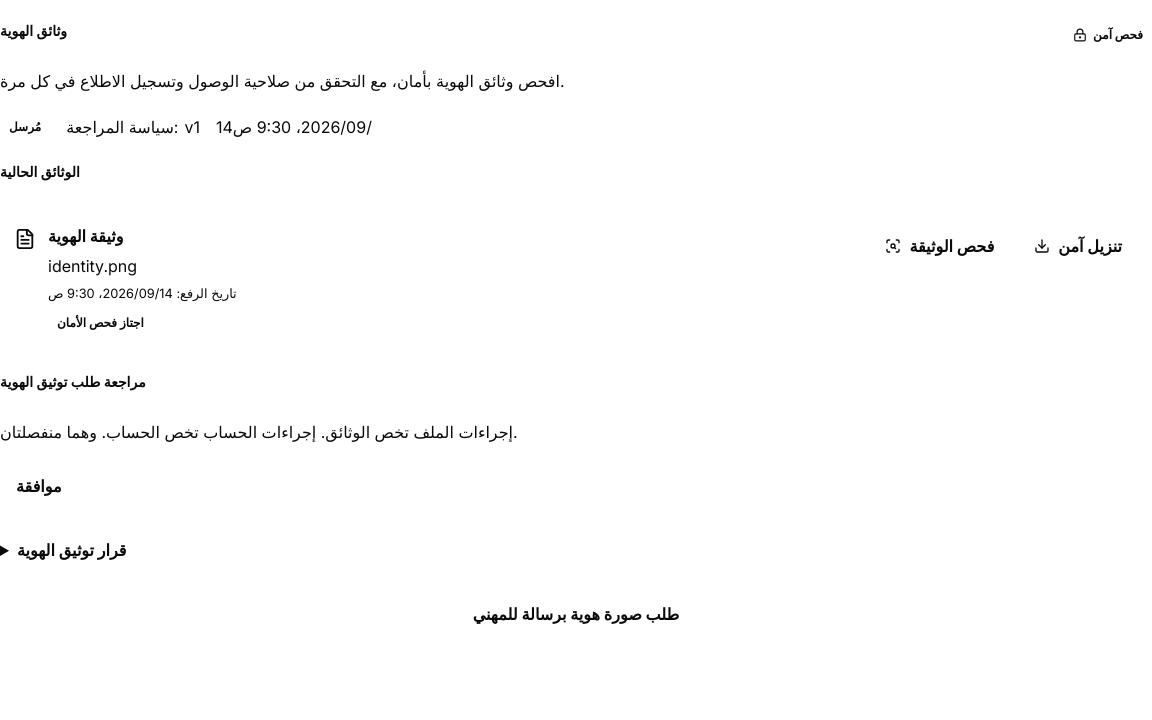
Test: restricted identity preview › explains ar identity conflict EVIDENCE_PREFLIGHT_STALE while preserving the case note
Step 1. Click the button with test id "review-case-approve" → (39, 486), box [0,464,78,508]
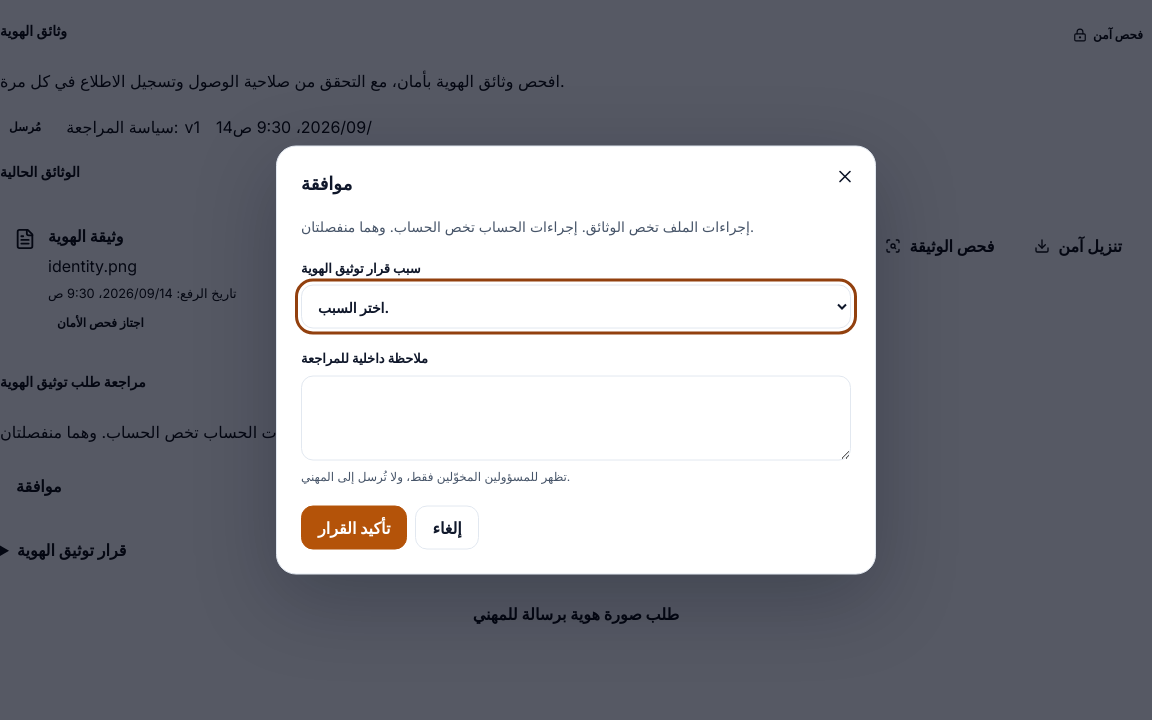
Step 2. Select "الوثائق كاملة وواضحة" in the dropdown → (576, 307), box [301,285,851,329]
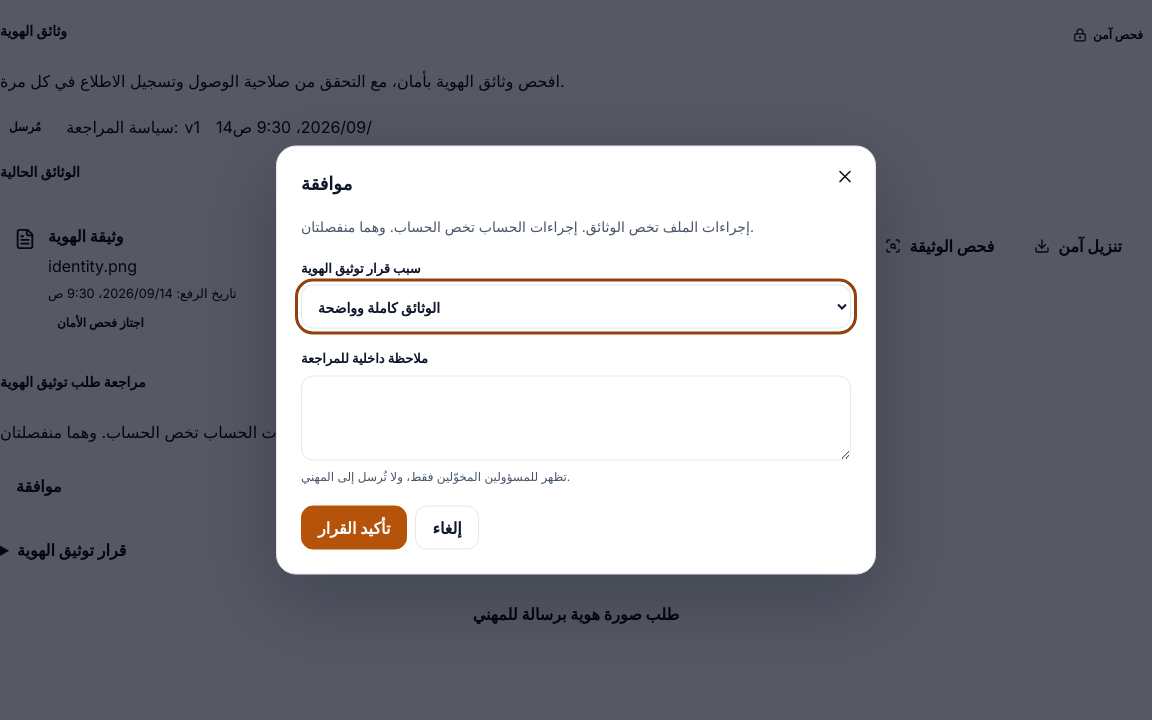
Step 3. Type "Preserved case note" into the text box → (576, 418), box [301,375,851,460]
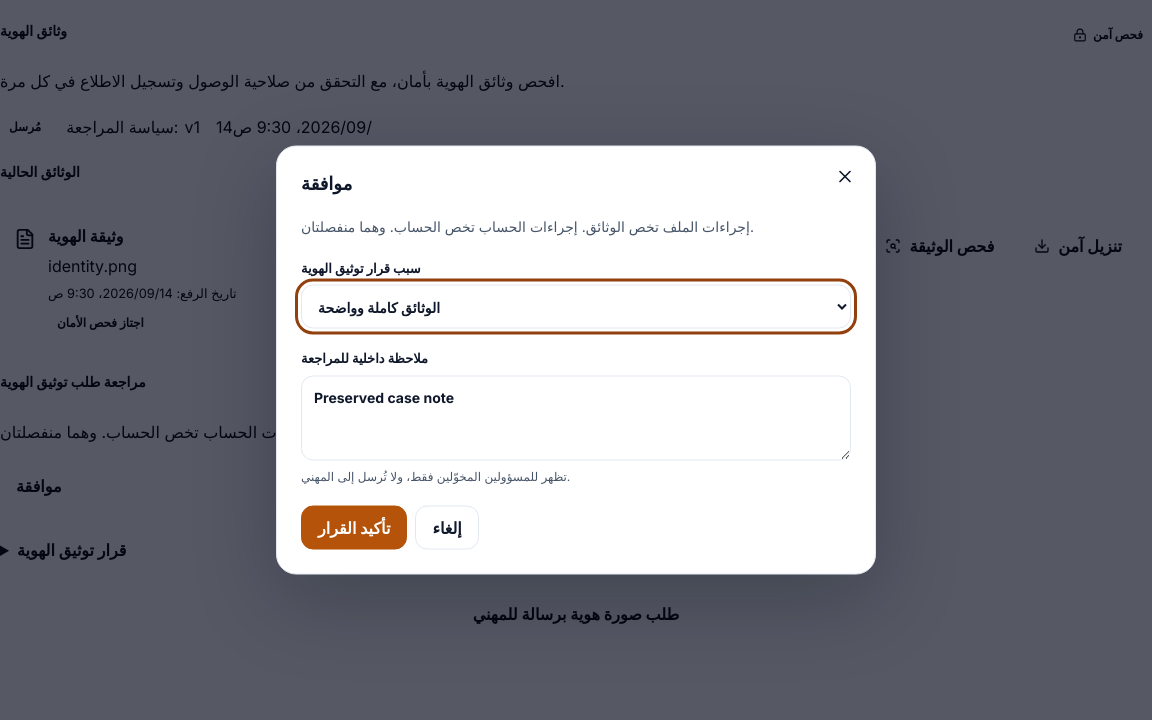
Step 4. Click the button with test id "review-case-confirm" → (354, 527), box [301,505,407,550]
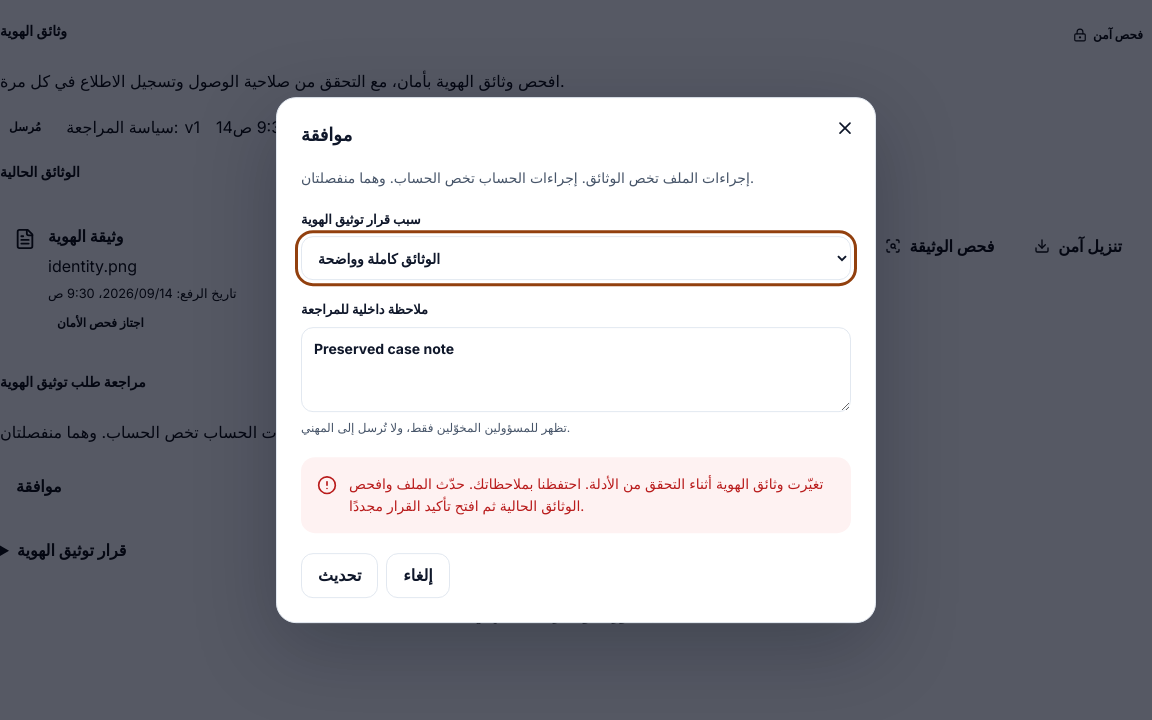
Check: the message shows "تغيّرت وثائق الهوية أثناء التحقق من الأدلة", box [349,475,823,514]
Check: the button with test id "review-case-confirm" is gone
